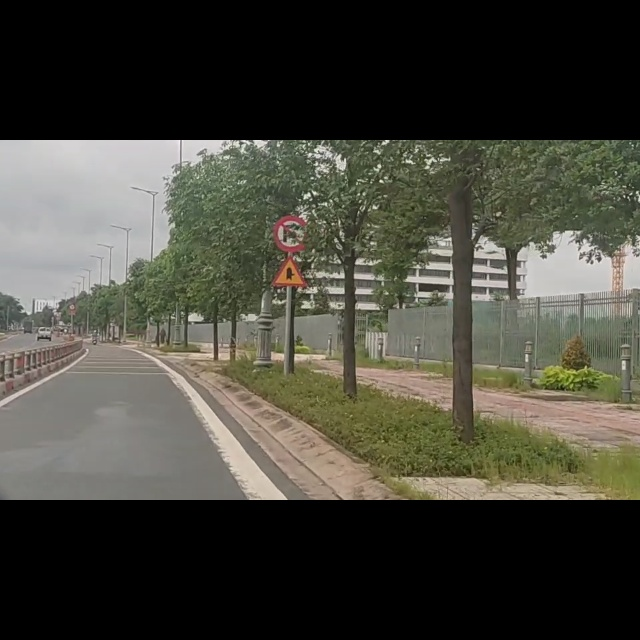bien_cam: (271, 133, 309, 203), (272, 205, 308, 261)
